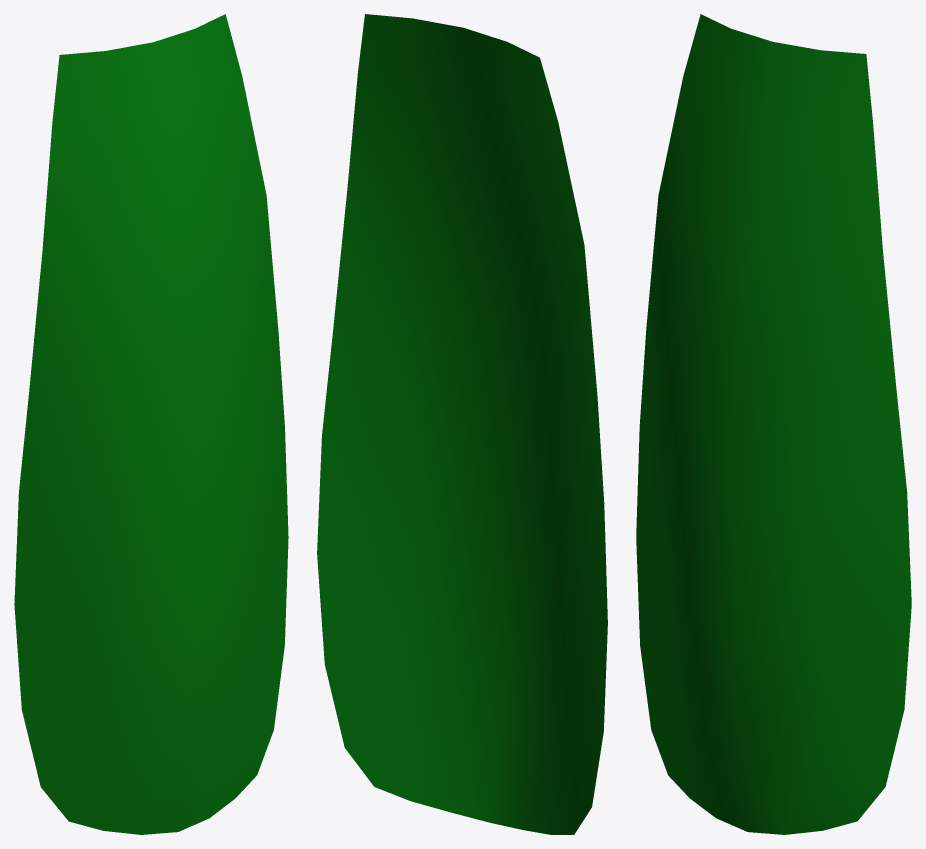
File: MD_nail_square_HandR.Little.fbx
3 views of the same model, side by side, from view 1: azimuth 30°, elevation 25°; view 2: azimuth 150°, elevation 25°; view 3: azimuth 330°, elevation 25° (orthographic). The views are drawn at different scales.
Visible parts, largest first — view 1: MD_nail_square_HandR.Little; view 2: MD_nail_square_HandR.Little; view 3: MD_nail_square_HandR.Little.
Boxes of the visible parts, bbox=[...] form: MD_nail_square_HandR.Little: bbox=[14, 14, 288, 834]; MD_nail_square_HandR.Little: bbox=[317, 14, 607, 834]; MD_nail_square_HandR.Little: bbox=[636, 14, 911, 834].
Bounding box in the file's own units: 0.5883 × 1.58 × 0.1824.
